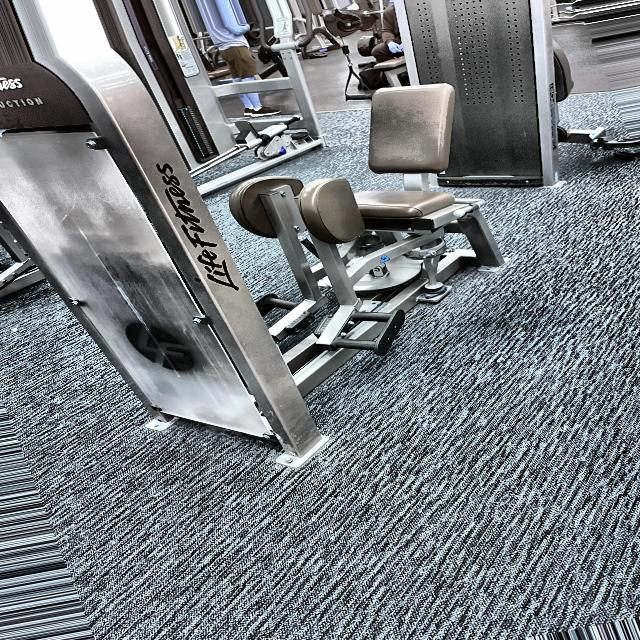hip_adduction_machine: (258, 54, 468, 383), (0, 88, 54, 133)
